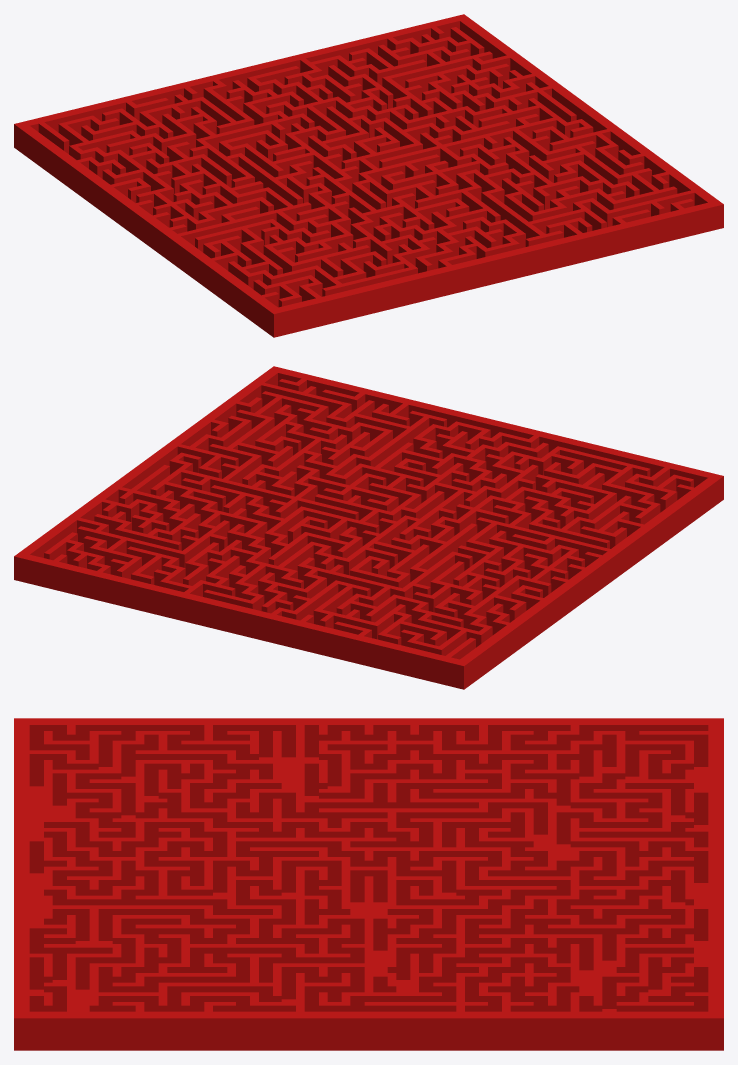
The model's file is maze2.obj.
3 views of the same model, one above another, from view 1: azimuth 30°, elevation 25°; view 2: azimuth 150°, elevation 25°; view 3: azimuth 270°, elevation 25° (orthographic). The views are drawn at different scales.
Parts seen in each view (by area): view 1: Plane; view 2: Plane; view 3: Plane.
Part boxes in pixels (x1,y1,x2,y2): Plane: (14,14,723,337); Plane: (14,366,723,689); Plane: (14,718,723,1050).
Size of the model in its own units: 66.07 by 3.3 by 66.07.
